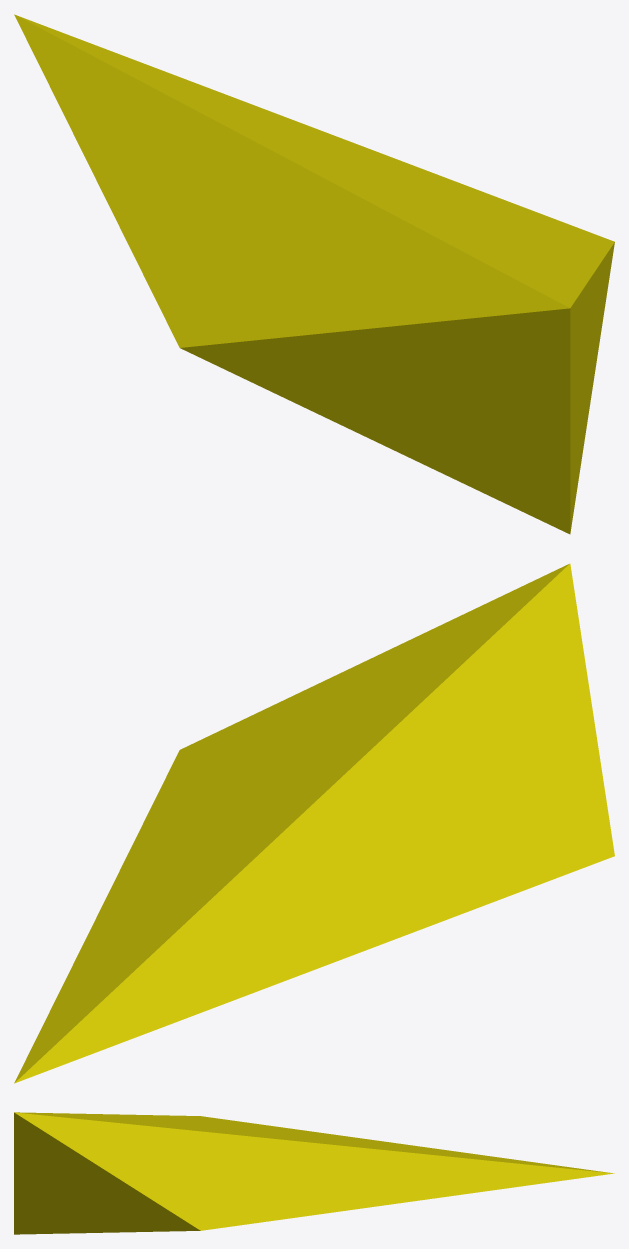
Rendered from StarPiece.fbx.
3 views of the same model, one above another, from view 1: azimuth 30°, elevation 25°; view 2: azimuth 150°, elevation 25°; view 3: azimuth 270°, elevation 25° (orthographic). The views are drawn at different scales.
Visible parts, largest first — view 1: 円; view 2: 円; view 3: 円.
Part boxes in pixels (left/top/right/bottom): 円: left=14, top=14, right=614, bottom=534; 円: left=14, top=563, right=614, bottom=1083; 円: left=14, top=1112, right=614, bottom=1234.
Size of the model in its own units: 118 by 58.39 by 260.
